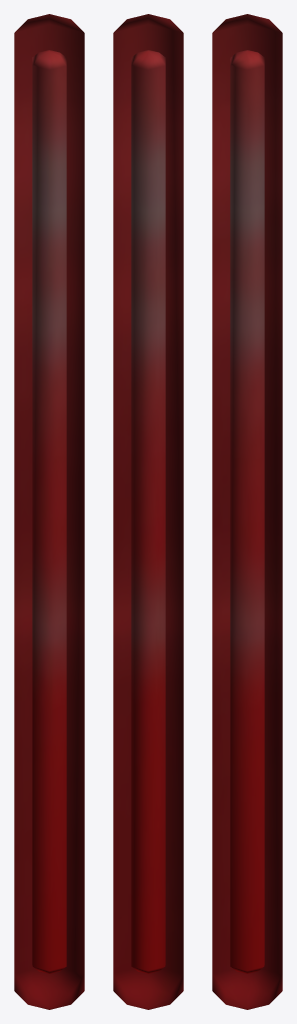
Rendered from lightStick.glb.
3 views of the same model, side by side, from view 1: azimuth 30°, elevation 25°; view 2: azimuth 150°, elevation 25°; view 3: azimuth 330°, elevation 25° (orthographic).
Visible parts, largest first — view 1: lightStick; view 2: lightStick; view 3: lightStick.
Boxes of the visible parts, x1=… form: lightStick: x1=14, y1=14, x2=84, y2=1009; lightStick: x1=113, y1=14, x2=183, y2=1009; lightStick: x1=212, y1=14, x2=282, y2=1009.
Size of the model in its own units: 0.0457 by 0.6171 by 0.0395.
1 material, 1 textured.
